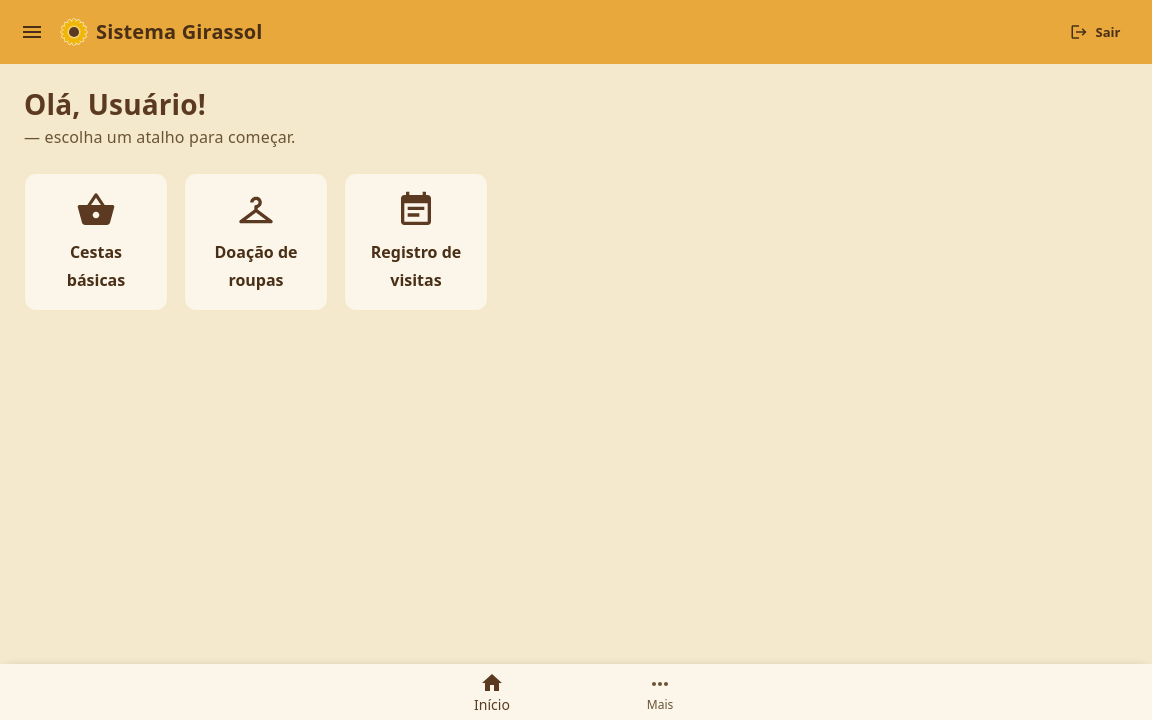
AppLayout — chrome mobile › o drawer oculta módulos sem permissão (Voluntário não vê Usuários)
The image size is (1152, 720).
Click the button named "Abrir menu": (32, 32) x1=12 y1=12 x2=52 y2=52
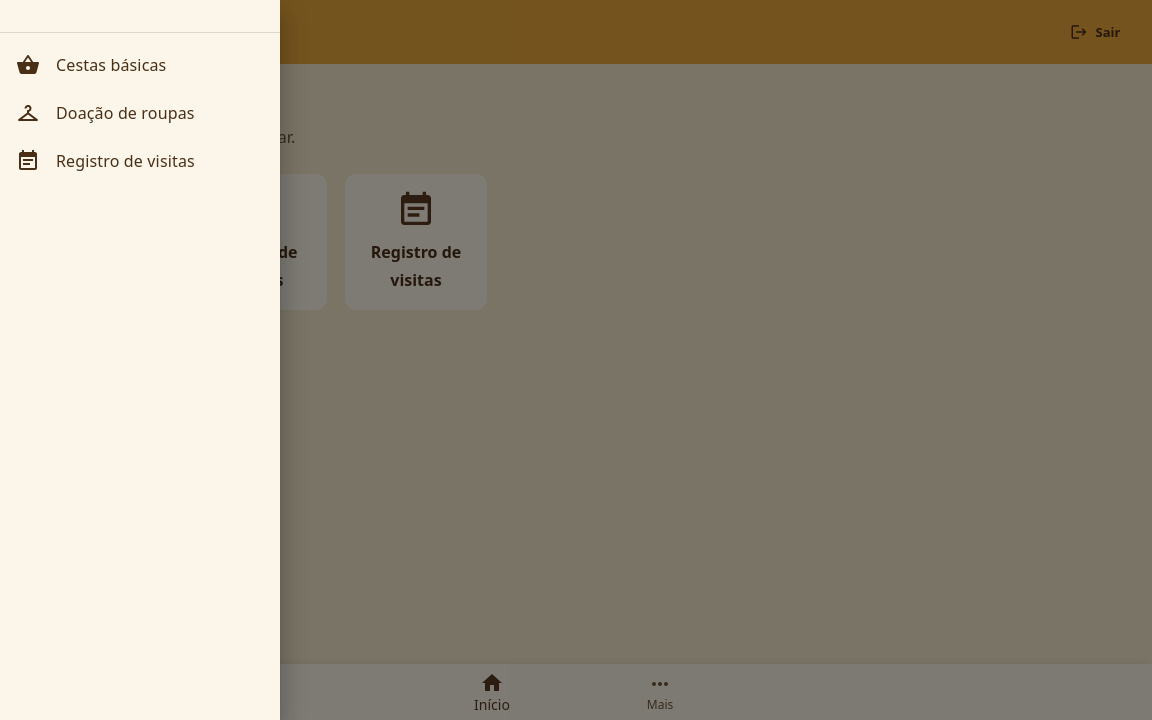
Expected: the link "Cestas básicas" is shown, x1=16 y1=53 x2=166 y2=77
